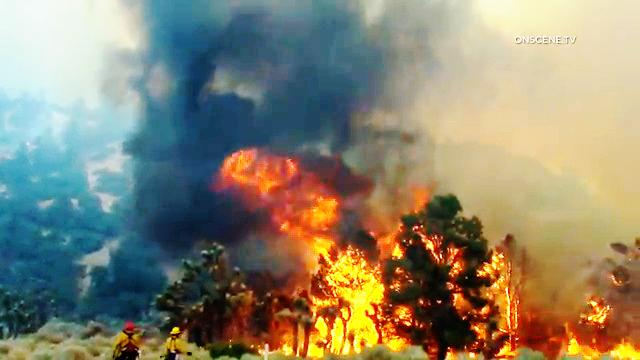fire: (300, 242, 380, 347), (549, 321, 640, 360), (494, 260, 531, 351)
smoke: (147, 8, 430, 146)
